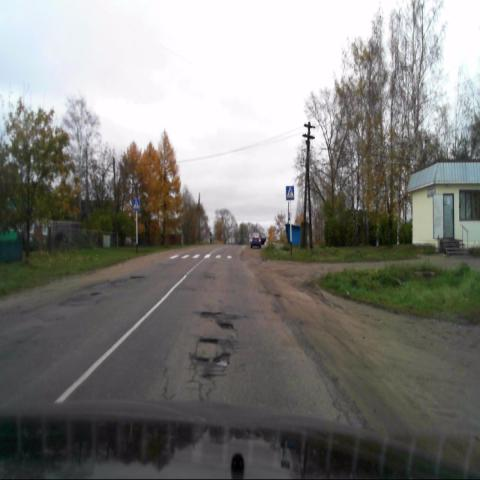5_19_1: (286, 186, 294, 200), (132, 198, 140, 211)
